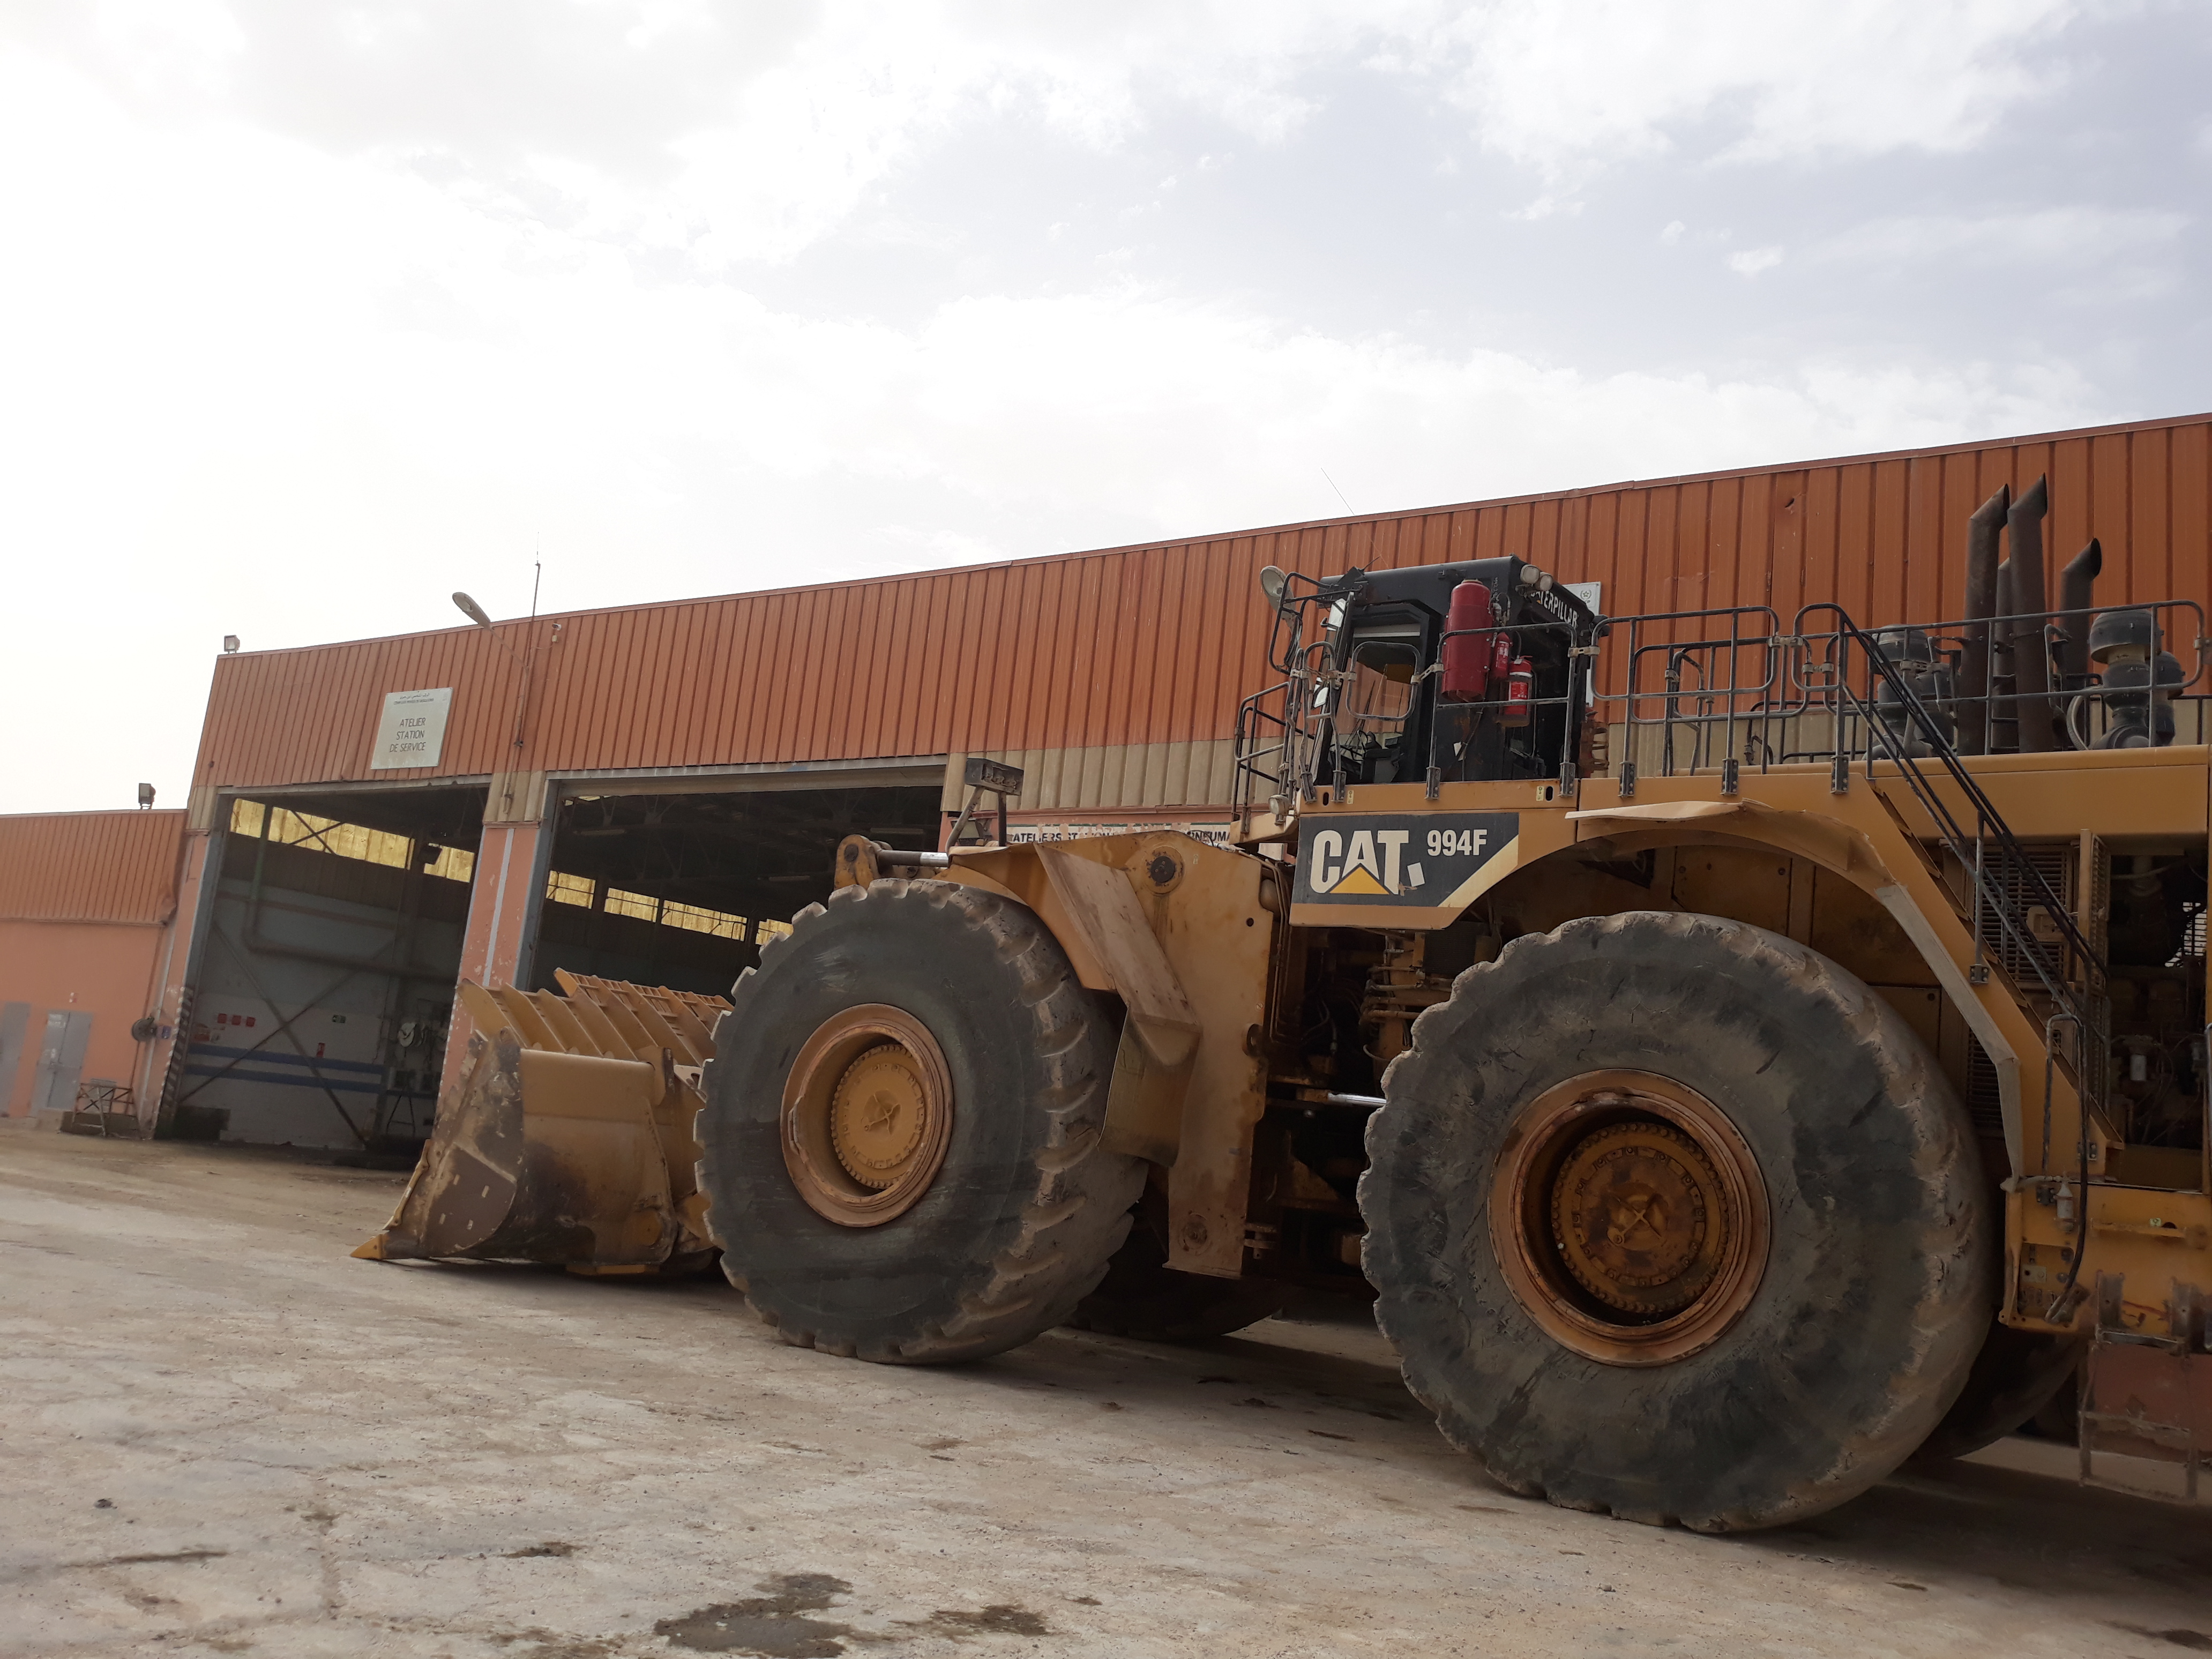chargeuse: (350, 488, 2212, 1540)
